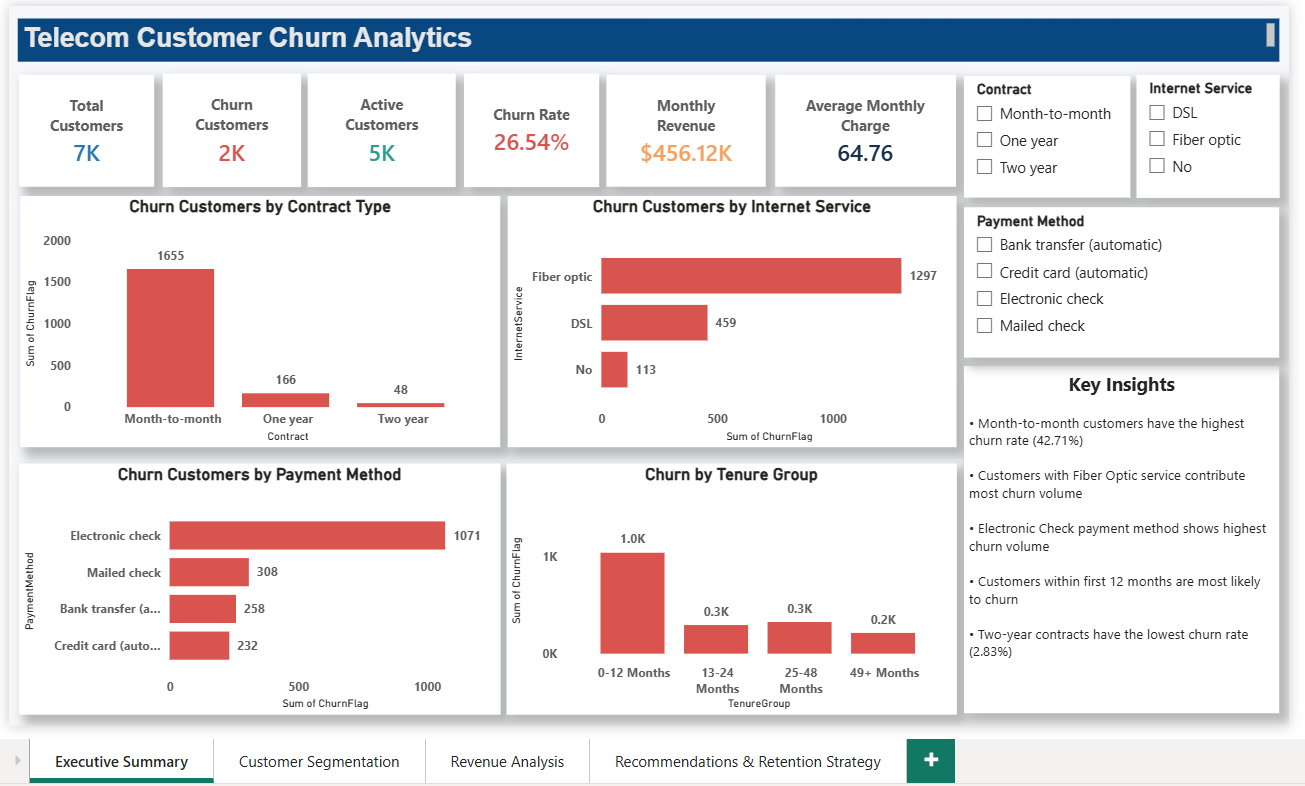

What the dashboard file says about the page in this screenshot:
{"tool":"powerbi","page":{"name":"Executive Summary","canvas":[1280,720],"ordinal":0},"visuals":[{"type":"cardVisual","fields":{"Data":["Measures (2).Total Customers"]},"box":[9.7,68.8,135.1,112.2],"z":0},{"type":"cardVisual","fields":{"Data":["Measures (2).Churn Customers"]},"box":[153.2,67.6,138.7,113.4],"z":1000},{"type":"cardVisual","fields":{"Data":["Measures (2).Active Customers"]},"box":[299.2,67.6,148.4,113.4],"z":2000},{"type":"cardVisual","fields":{"Data":["Measures (2).Churn Rate"]},"box":[454.8,67.6,135.1,113.4],"z":3000},{"type":"cardVisual","fields":{"Data":["Measures (2).Monthly Revenue"]},"box":[597.2,68.8,159.3,112.2],"z":4000},{"type":"cardVisual","fields":{"Data":["Measures (2).Average Monthly Charge"]},"box":[766.1,68.8,181,112.2],"z":5000},{"type":"clusteredColumnChart","title":"Churn Customers by Contract Type","fields":{"Category":["telecom_churn fact_customer_churn.Contract"],"Y":["Sum(telecom_churn fact_customer_churn.ChurnFlag)"]},"box":[10.9,190.6,480.2,250.9],"z":6000},{"type":"clusteredBarChart","title":"Churn Customers by Internet Service","fields":{"Category":["telecom_churn fact_customer_churn.InternetService"],"Y":["Sum(telecom_churn fact_customer_churn.ChurnFlag)"]},"box":[498.3,190.6,448.8,250.9],"z":7000},{"type":"textbox","box":[8.4,12.1,1261.9,43.4],"z":8000},{"type":"clusteredBarChart","title":"Churn Customers by Payment Method","fields":{"Category":["telecom_churn fact_customer_churn.PaymentMethod"],"Y":["Sum(telecom_churn fact_customer_churn.ChurnFlag)"]},"box":[9.7,457.2,481.4,250.9],"z":9000},{"type":"clusteredColumnChart","title":"Churn by Tenure Group","fields":{"Category":["telecom_churn fact_customer_churn.TenureGroup"],"Y":["Sum(telecom_churn fact_customer_churn.ChurnFlag)"]},"box":[497.1,457.2,450,250.9],"z":10000},{"type":"textbox","box":[955.1,360.3,315.4,347.4],"z":11000},{"type":"slicer","fields":{"Values":["telecom_churn fact_customer_churn.Contract"]},"box":[955.1,70.5,166.7,121.8],"z":12000},{"type":"slicer","fields":{"Values":["telecom_churn fact_customer_churn.InternetService"]},"box":[1126.9,69.2,143.6,123.1],"z":13000},{"type":"slicer","fields":{"Values":["telecom_churn fact_customer_churn.PaymentMethod"]},"box":[955.1,201.3,315.4,150],"z":14000}]}

Visuals, with their boxes in screenshot pixels (x1, y1, x2, y2):
cardVisual - Measures (2).Total Customers: left=13, top=73, right=149, bottom=185
cardVisual - Measures (2).Churn Customers: left=157, top=71, right=297, bottom=185
cardVisual - Measures (2).Active Customers: left=304, top=71, right=453, bottom=185
cardVisual - Measures (2).Churn Rate: left=461, top=71, right=597, bottom=185
cardVisual - Measures (2).Monthly Revenue: left=604, top=73, right=764, bottom=185
cardVisual - Measures (2).Average Monthly Charge: left=774, top=73, right=956, bottom=185
"Churn Customers by Contract Type" clusteredColumnChart: left=14, top=195, right=497, bottom=447
"Churn Customers by Internet Service" clusteredBarChart: left=504, top=195, right=956, bottom=447
textbox: left=12, top=16, right=1281, bottom=59
"Churn Customers by Payment Method" clusteredBarChart: left=13, top=463, right=497, bottom=715
"Churn by Tenure Group" clusteredColumnChart: left=503, top=463, right=956, bottom=715
textbox: left=964, top=366, right=1281, bottom=715
slicer - telecom_churn fact_customer_churn.Contract: left=964, top=74, right=1131, bottom=197
slicer - telecom_churn fact_customer_churn.InternetService: left=1136, top=73, right=1281, bottom=197
slicer - telecom_churn fact_customer_churn.PaymentMethod: left=964, top=206, right=1281, bottom=357
